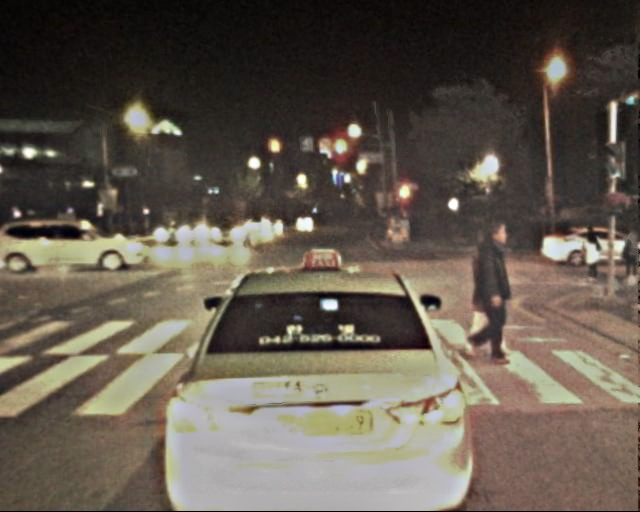person: (459, 223, 518, 366), (578, 226, 604, 289), (618, 228, 640, 284)
